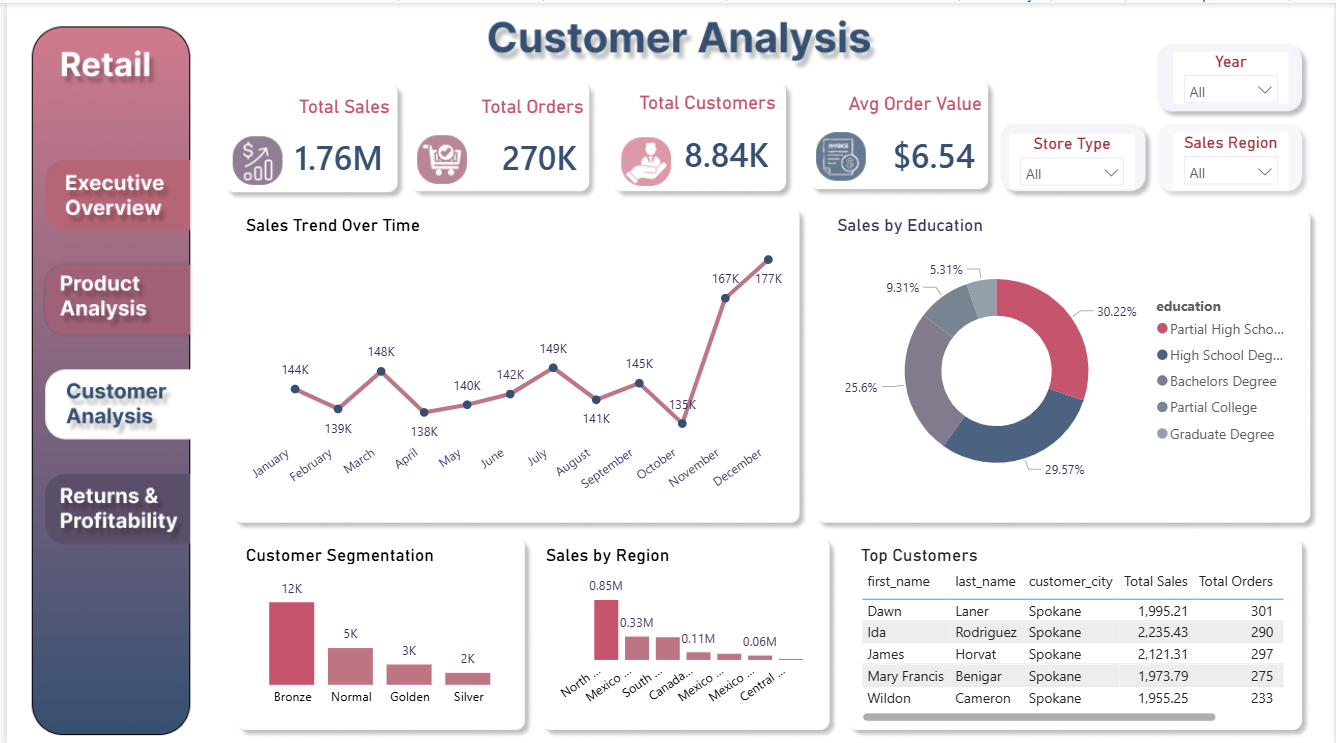

The page's visual inventory and layout, read from the dashboard file:
{"tool":"powerbi","page":{"name":"Sales & Customer Analysis ","canvas":[1280,720],"ordinal":2},"visuals":[{"type":"donutChart","title":"Sales by Education","fields":{"Y":["Measure.Total Sales"],"Category":["dimcustomer.education"]},"box":[795.8,203.7,451,283.7],"z":0},{"type":"tableEx","title":"Top Customers","fields":{"Values":["dimcustomer.first_name","dimcustomer.last_name","dimcustomer.customer_city","Measure.Total Sales","Measure.Total Orders","dimcustomer.customer_id"]},"box":[819.1,522.3,417.6,176],"z":1000},{"type":"slicer","title":"Year","fields":{"Values":["dimdate.date_id.Variation.Date Hierarchy.Year","dimdate.date_id.Variation.Date Hierarchy.Quarter"]},"box":[1125.6,47.1,111,50.7],"z":3000},{"type":"slicer","title":"Sales Region","fields":{"Values":["dimproduct.product_brand"]},"box":[1125.6,125.5,111,54.3],"z":4000},{"type":"slicer","title":"Store Type","fields":{"Values":["dimstore.store_type"]},"box":[967.6,126.7,120.6,53.1],"z":5000},{"type":"cardVisual","title":"Total Sales","fields":{"Data":["Measure.Total Sales"]},"box":[244.4,88.7,129.5,93.1],"z":6000},{"type":"cardVisual","title":"Total Orders","fields":{"Data":["Measure.Total Orders"]},"box":[432.1,88.7,129.5,93.1],"z":7000},{"type":"cardVisual","title":"Total Customers  ","fields":{"Data":["Measure.Total Customers"]},"box":[589.9,85.7,156.8,94.1],"z":8000},{"type":"cardVisual","title":"Avg Order Value","fields":{"Data":["Measure.Average Order Value"]},"box":[785.4,86.9,160.5,94.1],"z":9000},{"type":"columnChart","title":"Customer Segmentation","fields":{"Y":["Measure.Total Sales"],"Category":["dimcustomer.member_card"]},"box":[225.5,522.3,270.6,165.9],"z":10000},{"type":"columnChart","title":"Sales by Region","fields":{"Y":["Measure.Total Sales"],"Category":["dimregion.sales_region"]},"box":[515,522.3,270.6,165.9],"z":11000},{"type":"lineChart","title":"Sales Trend Over Time","fields":{"Category":["dimdate.date_id.Variation.Date Hierarchy.Month"],"Y":["Measure.Total Sales"]},"box":[225.5,203.7,531,288.1],"z":12000}]}

Visuals, with their boxes in screenshot pixels (x1, y1, x2, y2), scaled from the page's 1280x720 canvas onto the 1336x743 screenshot:
"Sales by Education" donutChart: l=831, t=210, r=1301, b=503
"Top Customers" tableEx: l=855, t=539, r=1291, b=721
"Year" slicer: l=1175, t=49, r=1291, b=101
"Sales Region" slicer: l=1175, t=130, r=1291, b=186
"Store Type" slicer: l=1010, t=131, r=1136, b=186
"Total Sales" cardVisual: l=255, t=92, r=390, b=188
"Total Orders" cardVisual: l=451, t=92, r=586, b=188
"Total Customers  " cardVisual: l=616, t=88, r=779, b=186
"Avg Order Value" cardVisual: l=820, t=90, r=987, b=187
"Customer Segmentation" columnChart: l=235, t=539, r=518, b=710
"Sales by Region" columnChart: l=538, t=539, r=820, b=710
"Sales Trend Over Time" lineChart: l=235, t=210, r=790, b=508
